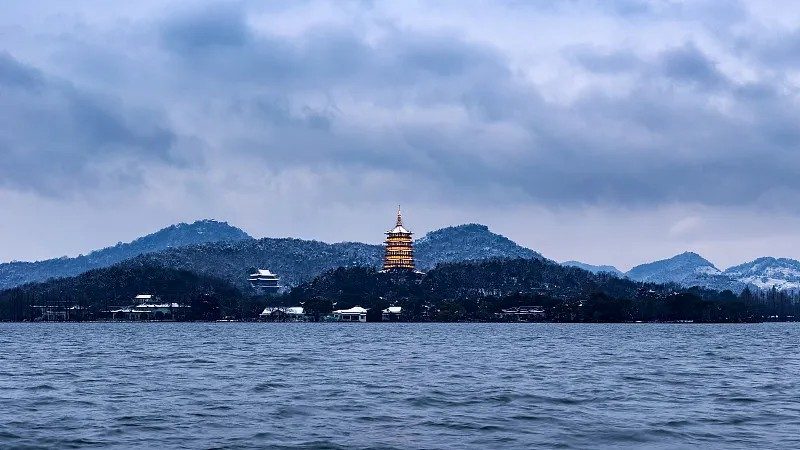Leifeng: (380, 204, 417, 274)
